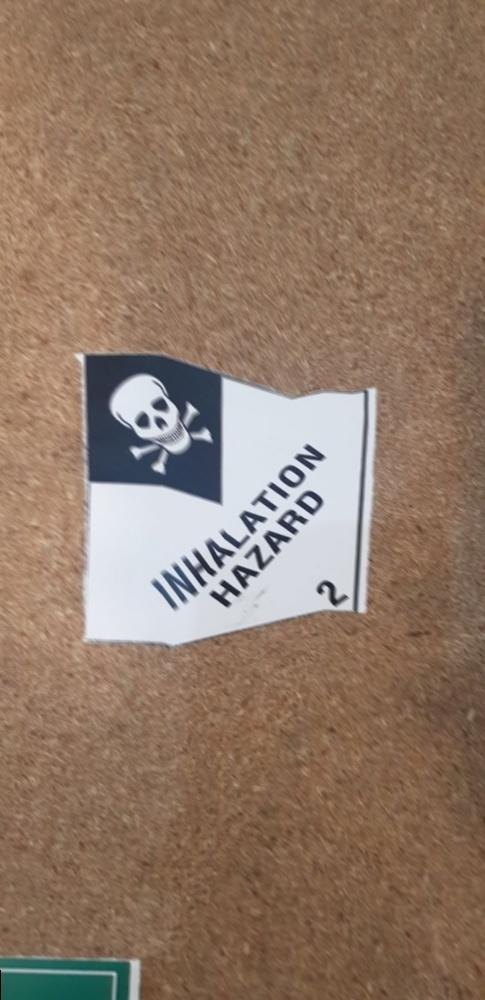poison: (73, 349, 381, 653)
